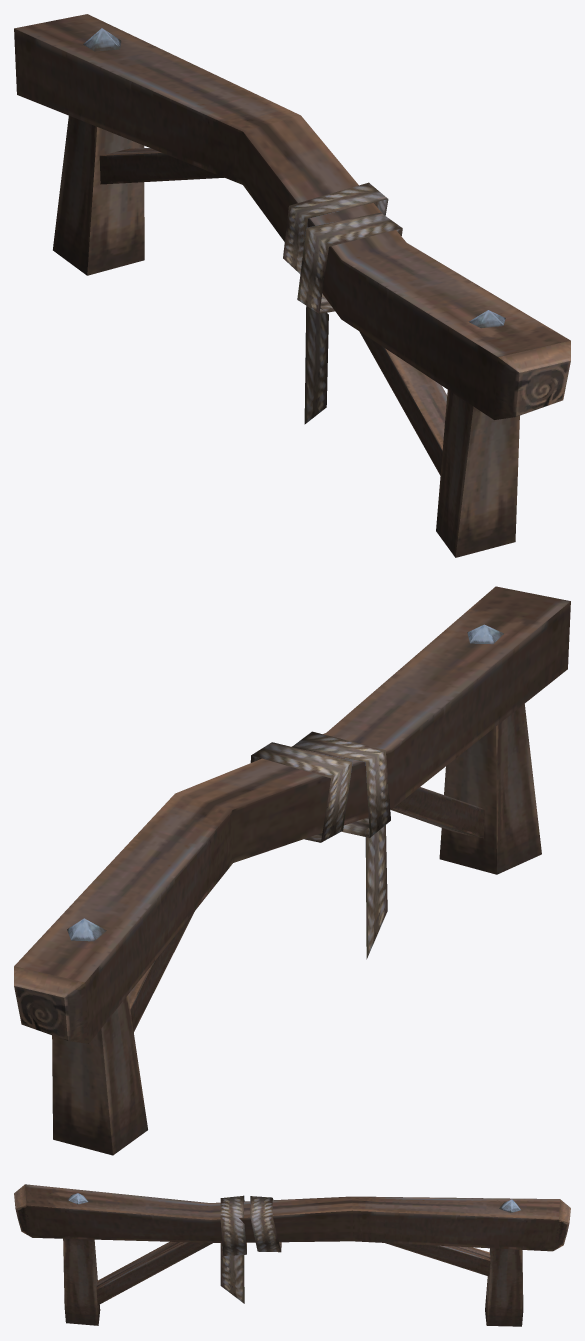
File: mine_railing_large02.fbx
3 views of the same model, one above another, from view 1: azimuth 30°, elevation 25°; view 2: azimuth 150°, elevation 25°; view 3: azimuth 270°, elevation 25° (orthographic). The views are drawn at different scales.
Visible parts, largest first — view 1: mine_railing_large02-0; view 2: mine_railing_large02-0; view 3: mine_railing_large02-0.
Boxes of the visible parts, x1,y1,x2,y2 form: mine_railing_large02-0: [14, 14, 570, 557]; mine_railing_large02-0: [14, 586, 570, 1155]; mine_railing_large02-0: [14, 1184, 570, 1326].
Size of the model in its own units: 0.7599 by 1.55 by 6.21.
